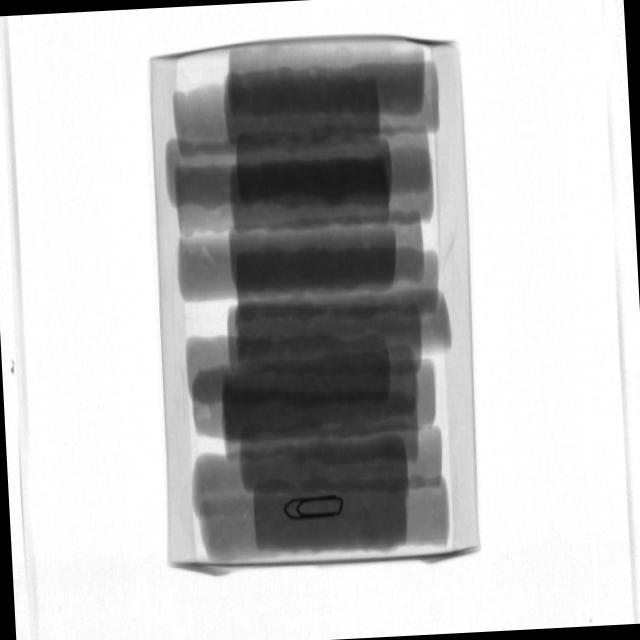ym: (285, 494, 348, 521)
